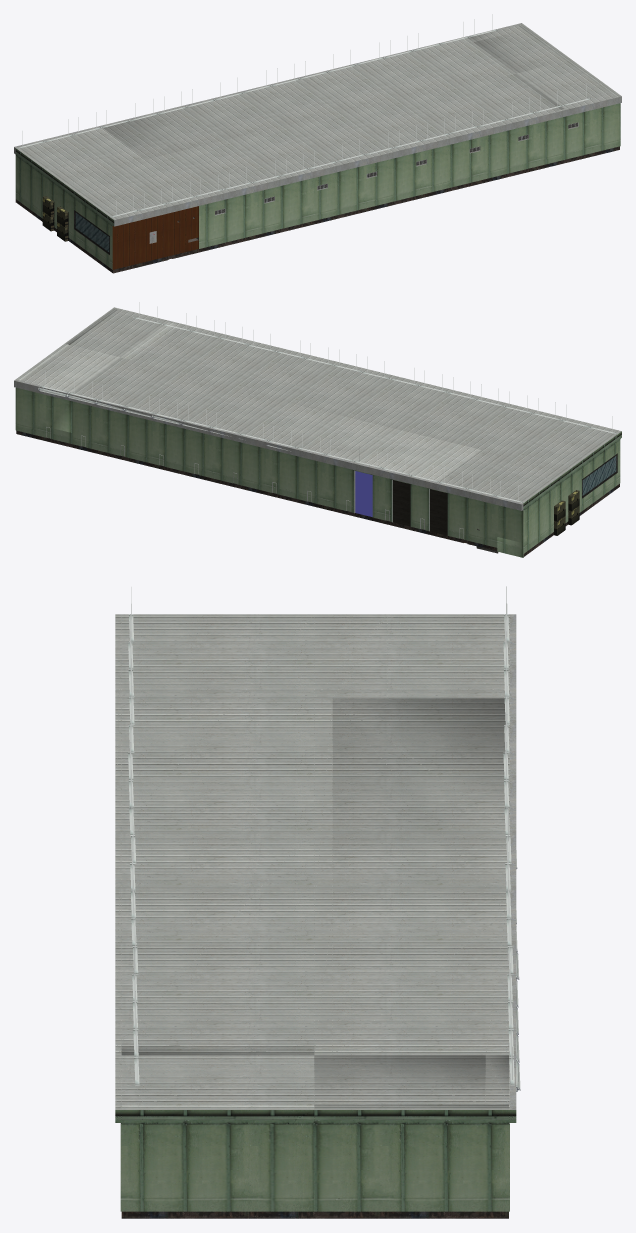
File: CAE.obj
The picture shows the model from 3 angles, top to bottom: view 1: azimuth 30°, elevation 25°; view 2: azimuth 150°, elevation 25°; view 3: azimuth 270°, elevation 25°; orthographic projection. The views are drawn at different scales.
Visible parts, largest first — view 1: texture_4, texture_3, texture_1, texture_19, texture_2, texture_20; view 2: texture_4, texture_3, texture_1, texture_2, texture_9, VBSP_Object.model_2, texture_20; view 3: texture_4, texture_3, texture_2, texture_1.
Part boxes in pixels (box(x1,y1,x2,y2)): texture_4: box(16, 24, 621, 220); texture_3: box(15, 103, 620, 269); texture_1: box(14, 23, 621, 243); texture_19: box(112, 206, 198, 269); texture_2: box(15, 146, 619, 273); texture_20: box(75, 213, 109, 252); texture_4: box(16, 307, 621, 503); texture_3: box(15, 387, 621, 557); texture_1: box(14, 379, 523, 539); texture_2: box(16, 430, 619, 556); texture_9: box(393, 480, 447, 535); VBSP_Object.model_2: box(355, 471, 372, 516); texture_20: box(582, 456, 616, 495); texture_4: box(115, 614, 509, 1109); texture_3: box(115, 1110, 516, 1211); texture_2: box(121, 1211, 508, 1218); texture_1: box(120, 614, 516, 1123).
Size of the model in its own units: 1158 by 159 by 397.
